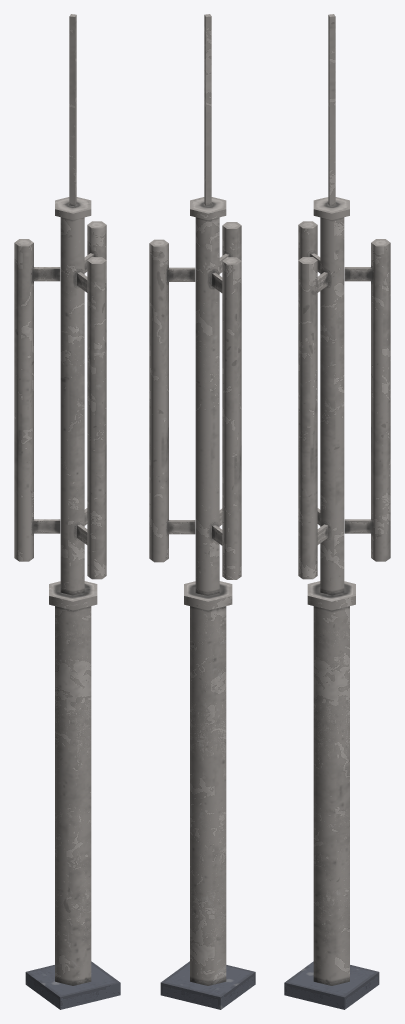
File: jctRoofAntennaA.fbx
3 renders of one model, left to right at view 1: azimuth 30°, elevation 25°; view 2: azimuth 150°, elevation 25°; view 3: azimuth 330°, elevation 25°, orthographic.
Visible parts, largest first — view 1: jctRoofAntennaA; view 2: jctRoofAntennaA; view 3: jctRoofAntennaA.
Boxes of the visible parts, x1=… form: jctRoofAntennaA: x1=14, y1=14, x2=120, y2=1009; jctRoofAntennaA: x1=149, y1=14, x2=255, y2=1009; jctRoofAntennaA: x1=284, y1=14, x2=390, y2=1009.
Size of the model in its own units: 72.57 by 772 by 66.35.
